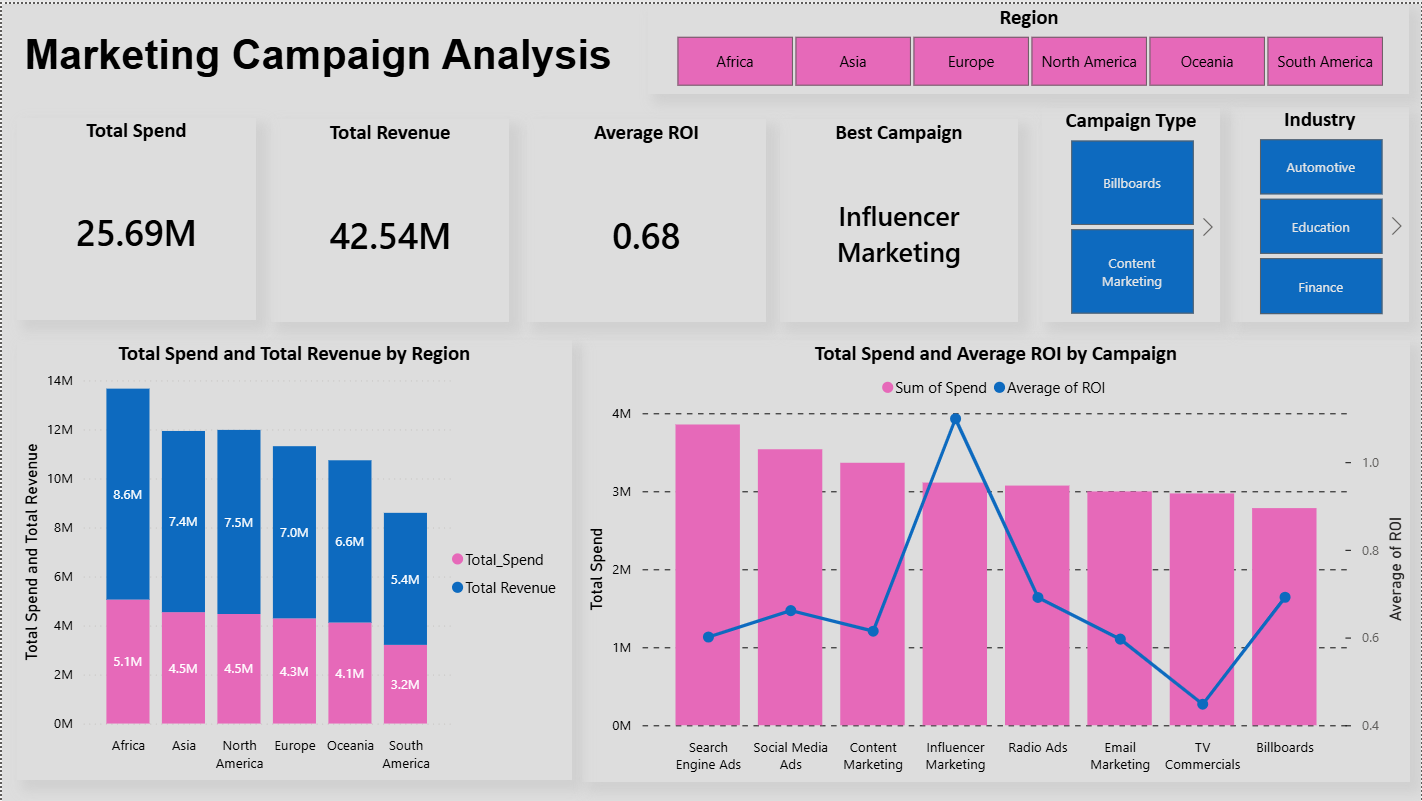

What the dashboard file says about the page in this screenshot:
{"tool":"powerbi","page":{"name":"Page 1","canvas":[1280,720],"ordinal":0},"visuals":[{"type":"columnChart","title":"Total Spend and Total Revenue by Region","fields":{"Category":["marketing campaign performance.Region"],"Y":["marketing campaign performance.Total_Spend","marketing campaign performance.Total Revenue"]},"box":[13.7,303.5,500.1,396.8],"z":0},{"type":"lineClusteredColumnComboChart","title":"Total Spend and Average ROI by Campaign","fields":{"Category":["marketing campaign performance.CampaignName"],"Y":["Sum(marketing campaign performance.Spend)"],"Y2":["Avg(marketing campaign performance.ROI)"]},"box":[522.5,303.5,746.4,398.1],"z":1000},{"type":"cardVisual","title":"Total Spend","fields":{"Data":["region performance.Total spend"]},"box":[13.7,102,215.2,182],"z":2000},{"type":"cardVisual","title":"Total Revenue","fields":{"Data":["Sum(marketing campaign performance.Revenue)"]},"box":[242.6,103.2,215.2,182.9],"z":3000},{"type":"cardVisual","title":"Average ROI","fields":{"Data":["Avg(marketing campaign performance.ROI)"]},"box":[473.9,103.2,215.2,182.9],"z":4000},{"type":"cardVisual","title":"Best Campaign","fields":{"Data":["marketing campaign performance.Best Campaign"]},"box":[701.6,103.2,215.2,182.9],"z":5000},{"type":"slicer","title":"Region","fields":{"Values":["marketing campaign performance.Region"]},"box":[582.2,0,686.7,80.9],"z":6000},{"type":"slicer","title":"Industry","fields":{"Values":["marketing campaign performance.Industry"]},"box":[1108.4,92.1,160.5,194.1],"z":7000},{"type":"slicer","title":"Campaign Type","fields":{"Values":["marketing campaign details.CampaignName"]},"box":[937.9,93.3,160.5,192.8],"z":8000},{"type":"textbox","box":[13.7,18.7,543.6,83.3],"z":9000}]}

Visuals, with their boxes in screenshot pixels (x1, y1, x2, y2), scaled from the page's 1280x720 canvas onto the 1422x801 screenshot:
"Total Spend and Total Revenue by Region" columnChart: BBox(15, 338, 571, 779)
"Total Spend and Average ROI by Campaign" lineClusteredColumnComboChart: BBox(580, 338, 1410, 781)
"Total Spend" cardVisual: BBox(15, 113, 254, 316)
"Total Revenue" cardVisual: BBox(270, 115, 509, 318)
"Average ROI" cardVisual: BBox(526, 115, 766, 318)
"Best Campaign" cardVisual: BBox(779, 115, 1019, 318)
"Region" slicer: BBox(647, 0, 1410, 90)
"Industry" slicer: BBox(1231, 102, 1410, 318)
"Campaign Type" slicer: BBox(1042, 104, 1220, 318)
textbox: BBox(15, 21, 619, 113)
